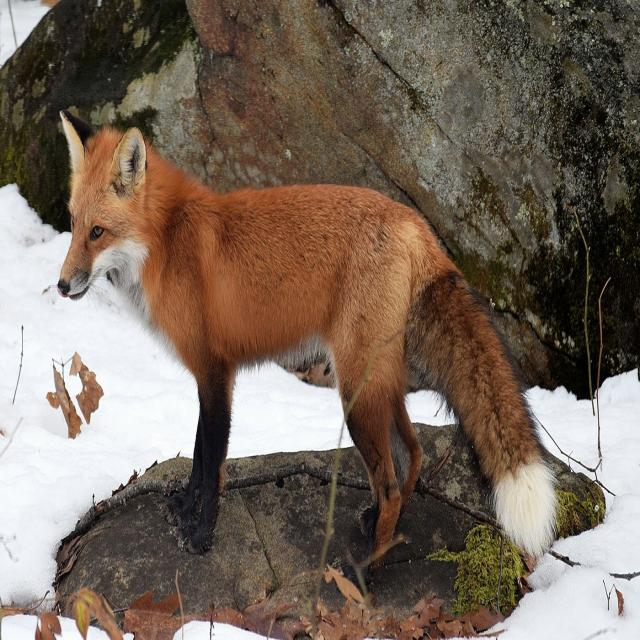fox: (58, 111, 556, 569)
